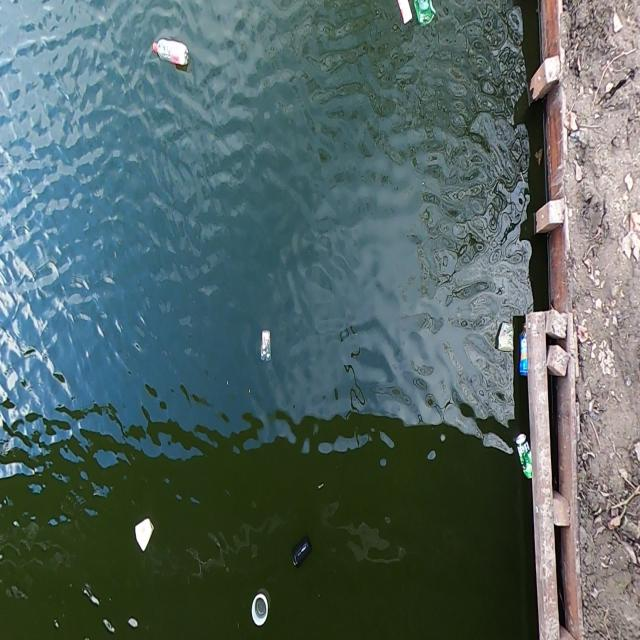Bouteille plastique: (146, 34, 196, 72)
Non plastique: (285, 530, 316, 571), (130, 518, 158, 555), (515, 429, 534, 483)
